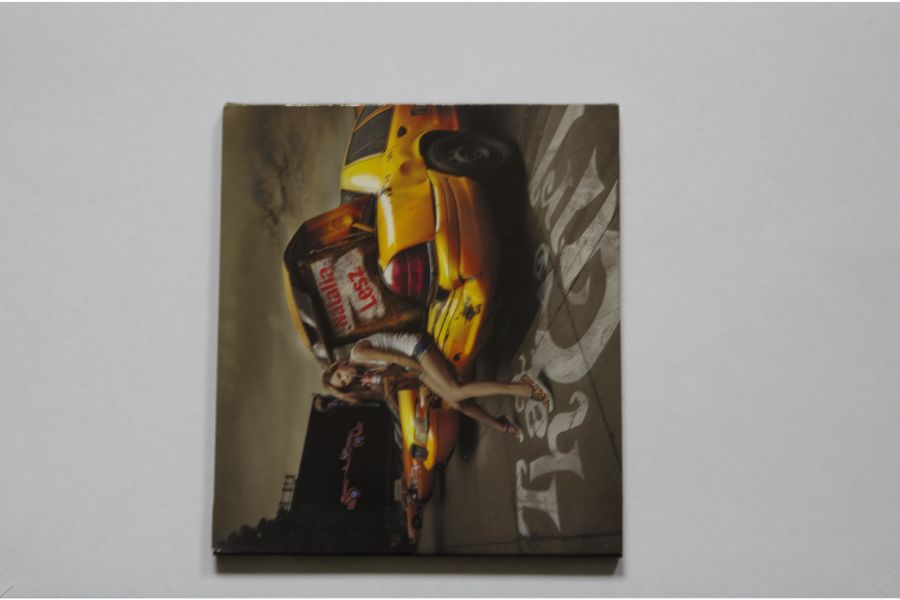album: (211, 102, 623, 558)
